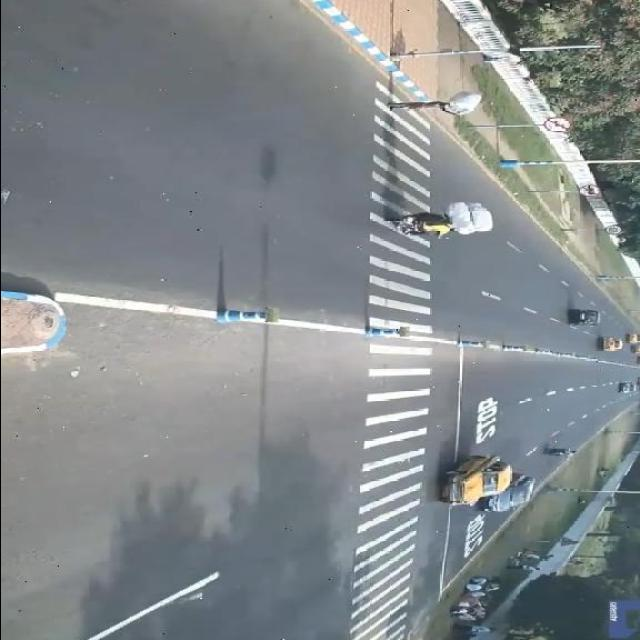accident: (380, 201, 471, 242)
